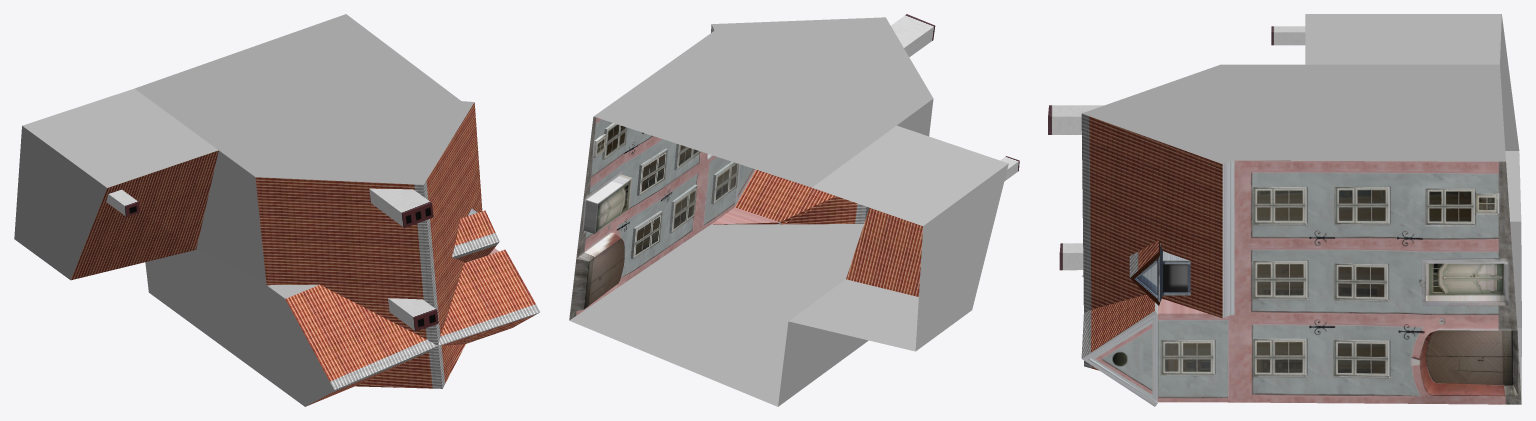
File: Toom-Kooli_5_1.obj
3 renders of one model, left to right at view 1: azimuth 30°, elevation 25°; view 2: azimuth 150°, elevation 25°; view 3: azimuth 270°, elevation 25°, orthographic. The views are drawn at different scales.
Visible parts, largest first — view 1: Toom_Kooli_5_1; view 2: Toom_Kooli_5_1; view 3: Toom_Kooli_5_1.
Boxes of the visible parts, left/top/right/bottom form: Toom_Kooli_5_1: left=14, top=14, right=540, bottom=406; Toom_Kooli_5_1: left=569, top=14, right=1019, bottom=406; Toom_Kooli_5_1: left=1048, top=14, right=1521, bottom=406.
Bounding box in the file's own units: 16.72 × 11.06 × 17.34.
